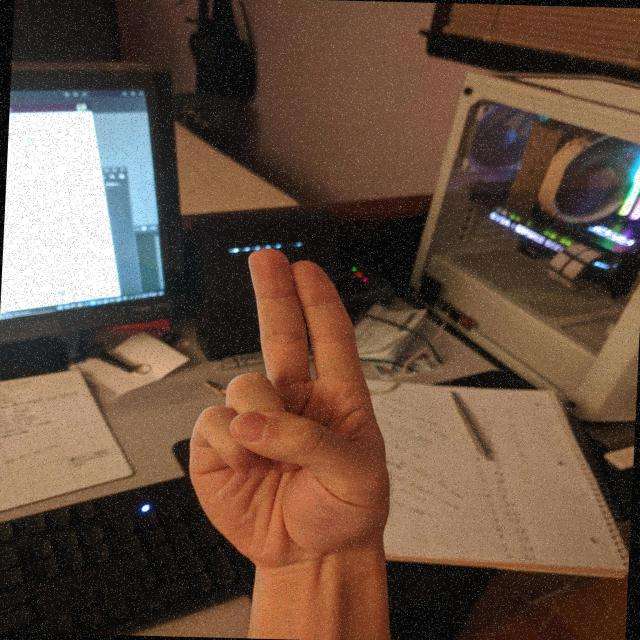U: (177, 244, 408, 573)
